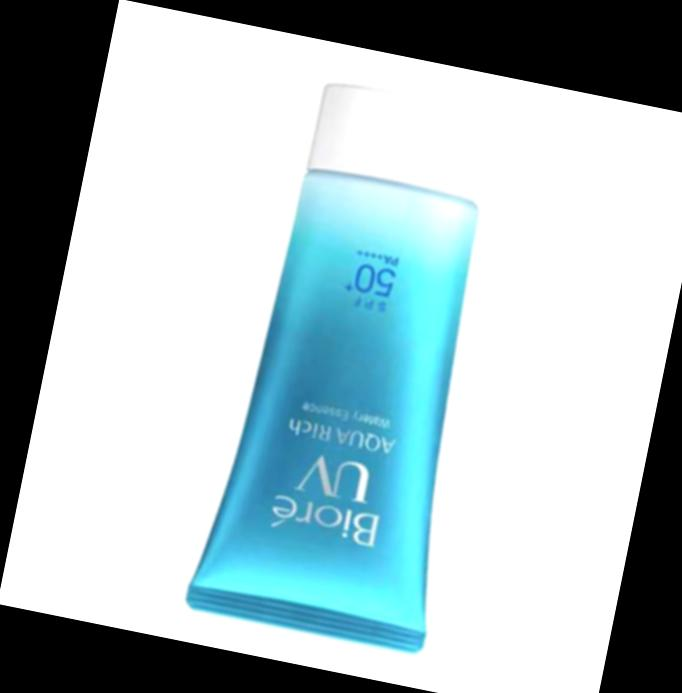cosmetic: (182, 69, 533, 658)
